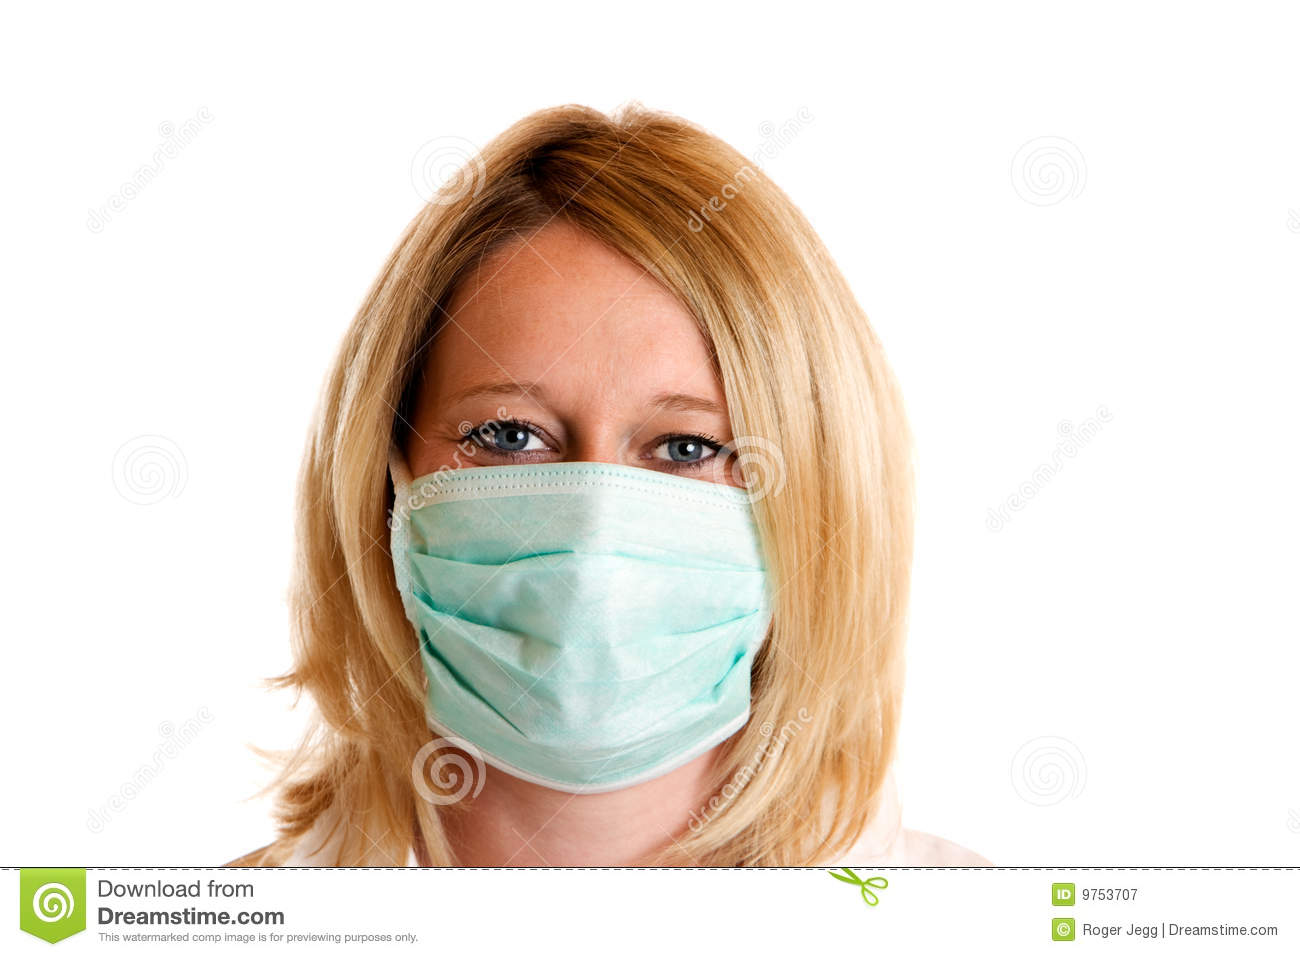mask: (366, 471, 785, 804)
